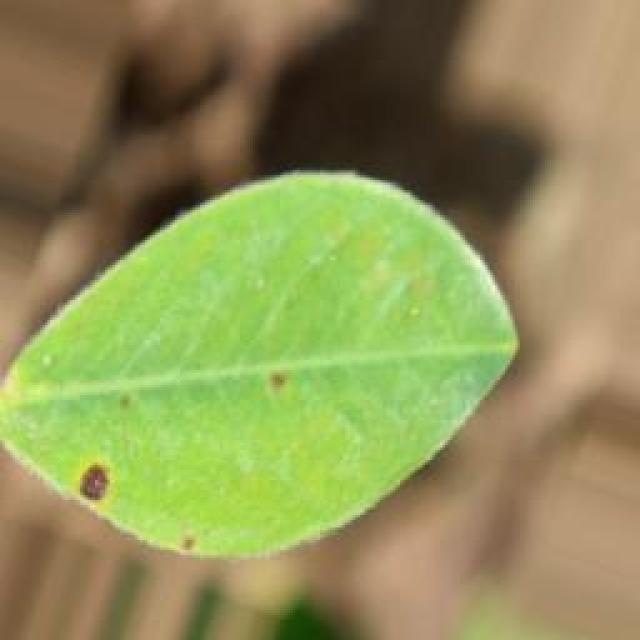Sigatoka: (55, 456, 138, 530), (246, 339, 309, 426), (154, 516, 230, 588)
